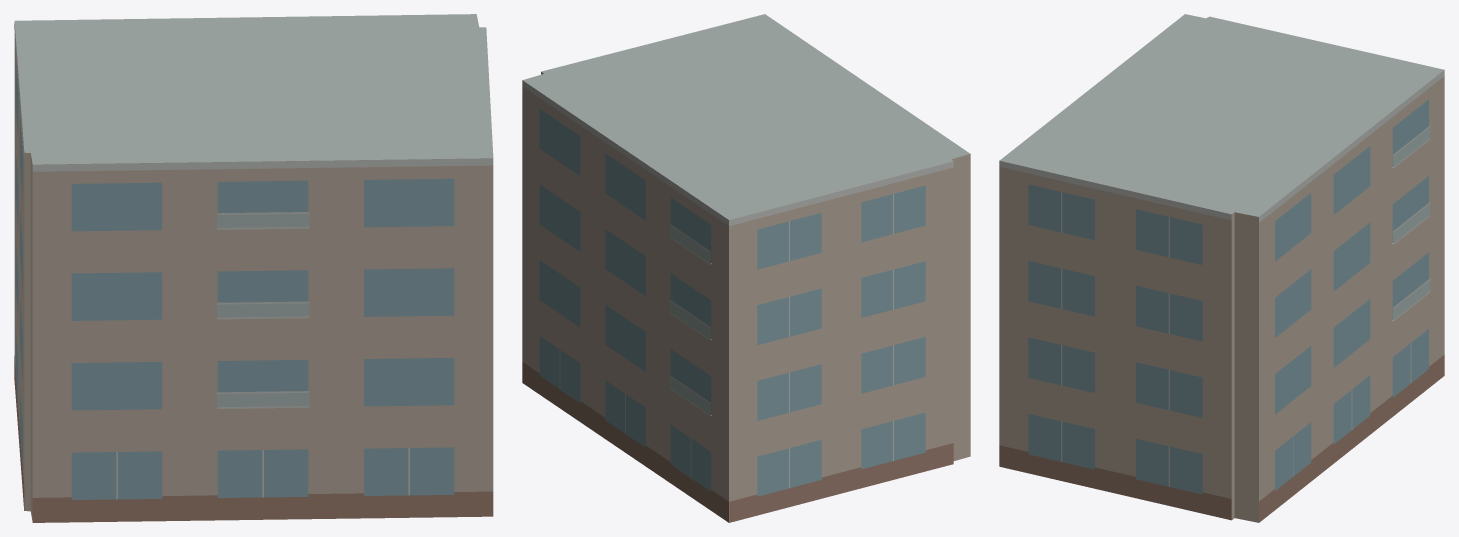
Rendered from survey-upis-32950246.glb.
3 renders of one model, left to right at view 1: azimuth 30°, elevation 25°; view 2: azimuth 150°, elevation 25°; view 3: azimuth 270°, elevation 25°, orthographic. The views are drawn at different scales.
Parts seen in each view (by area): view 1: survey-upis-32950246.tmp; view 2: survey-upis-32950246.tmp; view 3: survey-upis-32950246.tmp.
Part boxes in pixels (x1=…): survey-upis-32950246.tmp: x1=14, y1=14, x2=493, y2=522; survey-upis-32950246.tmp: x1=522, y1=14, x2=970, y2=522; survey-upis-32950246.tmp: x1=999, y1=14, x2=1444, y2=522.
Bounding box in the file's own units: 17.37 × 12.2 × 16.1.
